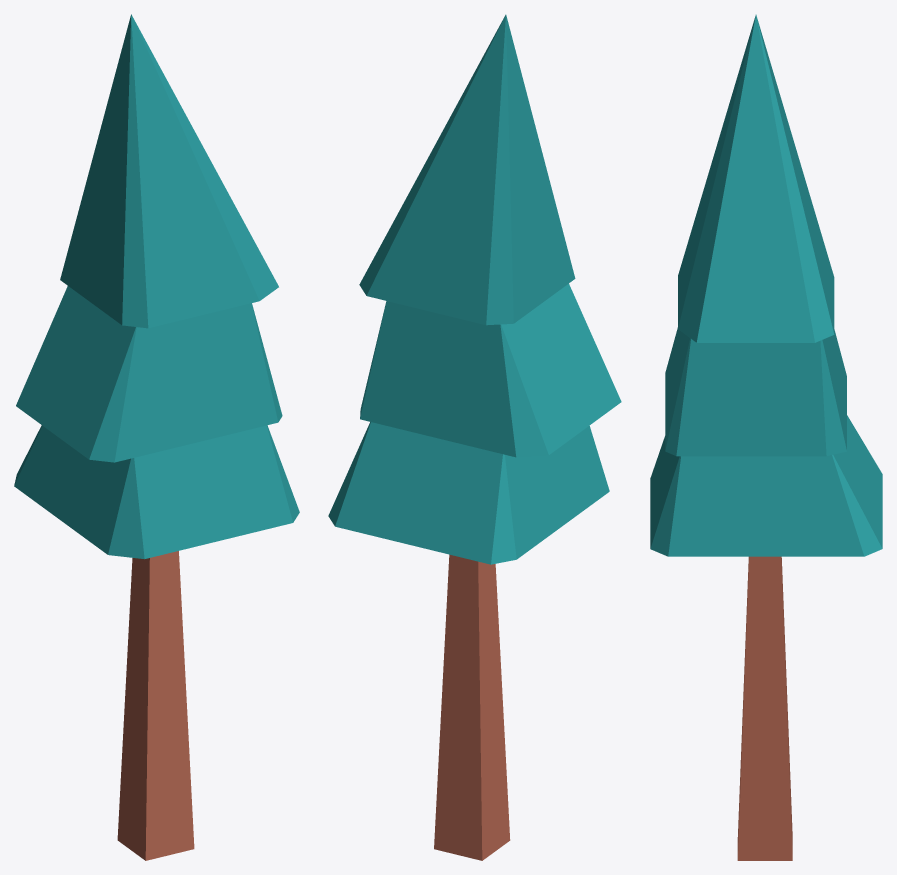
The model's file is tree_pineTallA.obj.
3 renders of one model, left to right at view 1: azimuth 30°, elevation 25°; view 2: azimuth 150°, elevation 25°; view 3: azimuth 270°, elevation 25°, orthographic. The views are drawn at different scales.
Visible parts, largest first — view 1: tree_pineTallA; view 2: tree_pineTallA; view 3: tree_pineTallA.
Part boxes in pixels (x1=…): tree_pineTallA: x1=14, y1=14, x2=299, y2=860; tree_pineTallA: x1=328, y1=14, x2=621, y2=860; tree_pineTallA: x1=650, y1=14, x2=882, y2=860.
Bounding box in the file's own units: 0.3863 × 1.53 × 0.392.
